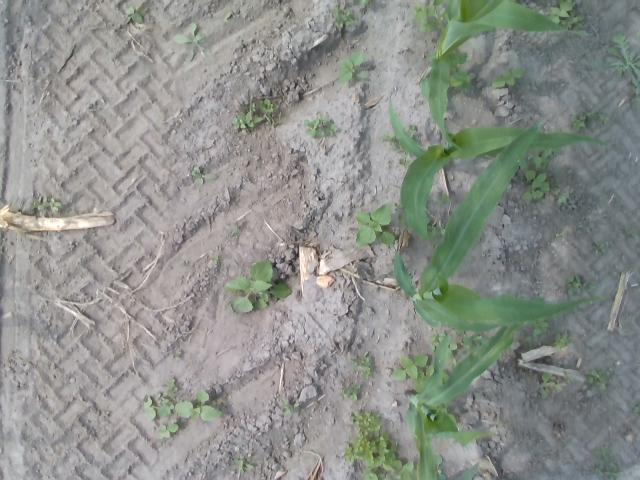Maize: (391, 115, 597, 326), (386, 90, 610, 240), (421, 0, 590, 151), (398, 325, 514, 480)
Weeds: (343, 410, 417, 480), (223, 258, 290, 314), (418, 49, 472, 95), (518, 148, 560, 202), (392, 354, 448, 392), (351, 203, 398, 246), (232, 98, 279, 130), (176, 390, 223, 422), (606, 33, 640, 76), (546, 0, 584, 35), (171, 22, 204, 62), (408, 2, 448, 34), (380, 125, 421, 156), (539, 370, 575, 398), (338, 52, 367, 84), (456, 326, 488, 354), (142, 392, 174, 420), (596, 446, 622, 480), (429, 330, 458, 360), (570, 110, 608, 132), (304, 114, 338, 138), (523, 318, 550, 344), (566, 274, 599, 294), (492, 68, 524, 88), (350, 353, 373, 379), (332, 5, 354, 31), (582, 370, 609, 390), (30, 194, 60, 212), (122, 3, 146, 25), (191, 166, 217, 184), (423, 224, 445, 244), (340, 383, 362, 401), (433, 454, 448, 480), (393, 203, 408, 228), (550, 332, 572, 349), (156, 423, 178, 440), (630, 74, 640, 104), (280, 398, 298, 414), (233, 459, 253, 472), (436, 194, 454, 206), (166, 379, 180, 394), (398, 158, 414, 170), (593, 242, 607, 255), (631, 404, 640, 418), (558, 192, 568, 204), (358, 0, 372, 7), (555, 230, 568, 237), (625, 226, 634, 236), (212, 256, 220, 264), (224, 12, 232, 20)
